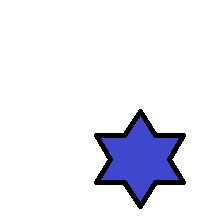star: (95, 109, 186, 209)
